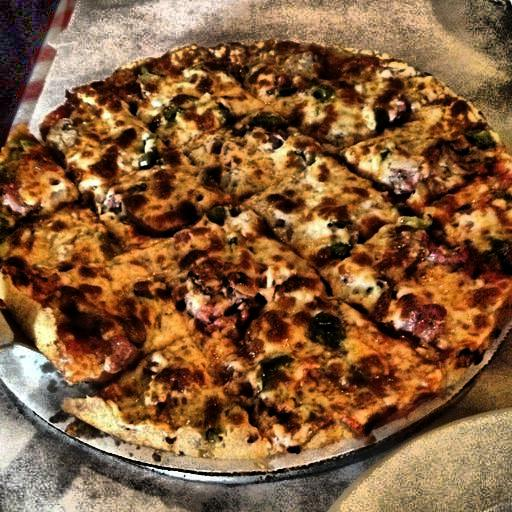pizza: (2, 39, 506, 480)
